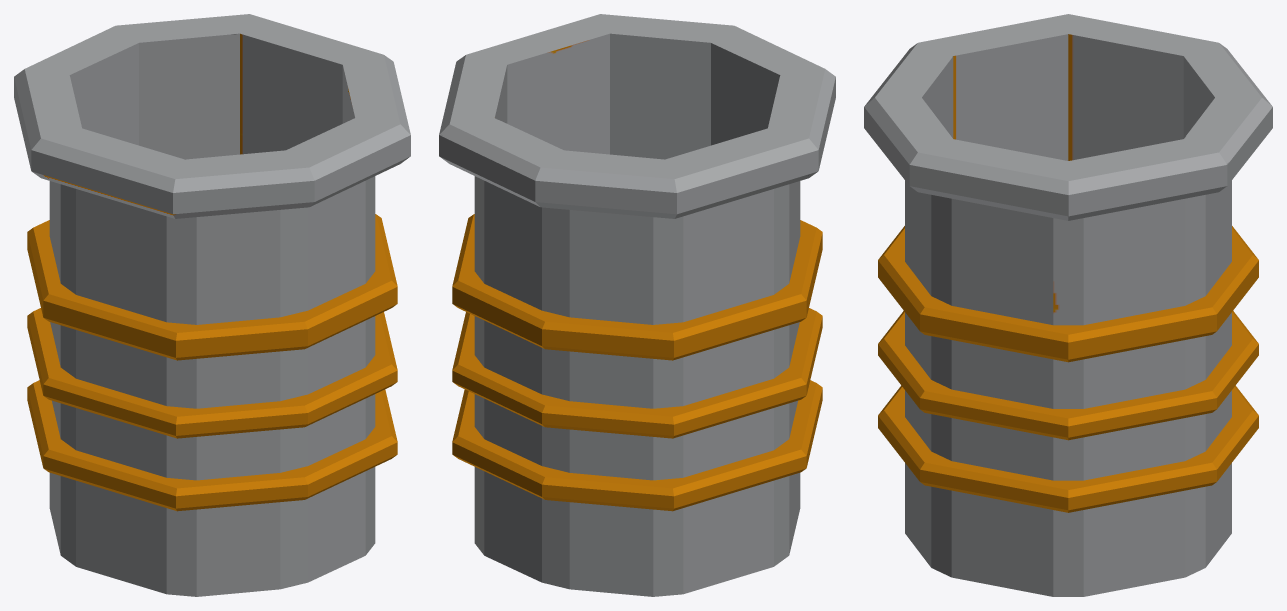
The model's file is Pipe_teleporter(IMPROVED).fbx.
3 renders of one model, left to right at view 1: azimuth 30°, elevation 25°; view 2: azimuth 150°, elevation 25°; view 3: azimuth 270°, elevation 25°, orthographic.
Visible parts, largest first — view 1: pipe_teleport; view 2: pipe_teleport; view 3: pipe_teleport.
Part boxes in pixels (bbox=[...]): pipe_teleport: bbox=[14, 14, 410, 596]; pipe_teleport: bbox=[439, 14, 835, 596]; pipe_teleport: bbox=[864, 14, 1272, 596].
Size of the model in its own units: 809 by 917 by 791.
1 material, 1 textured.
